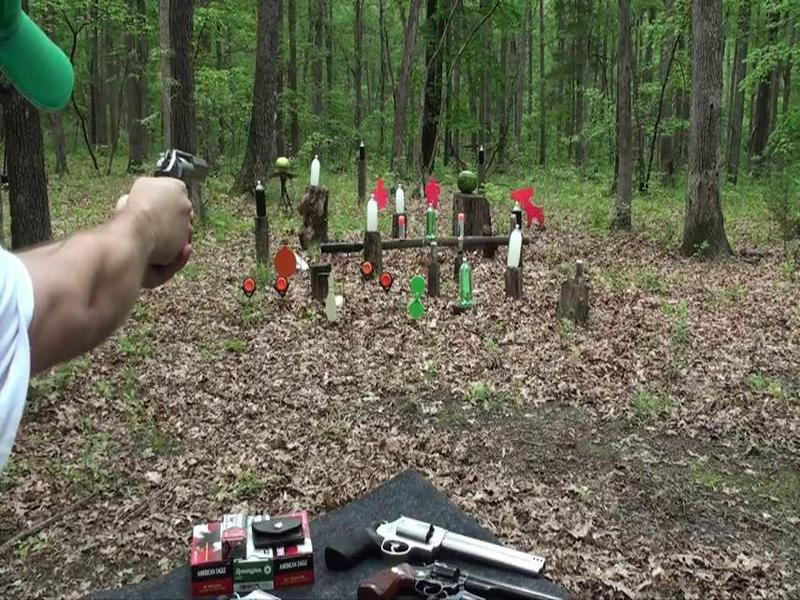Revolver: (150, 139, 223, 214)
